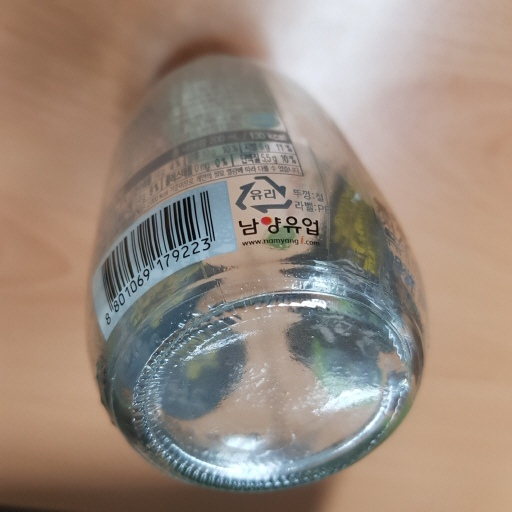Glass_4: (81, 52, 429, 486)
